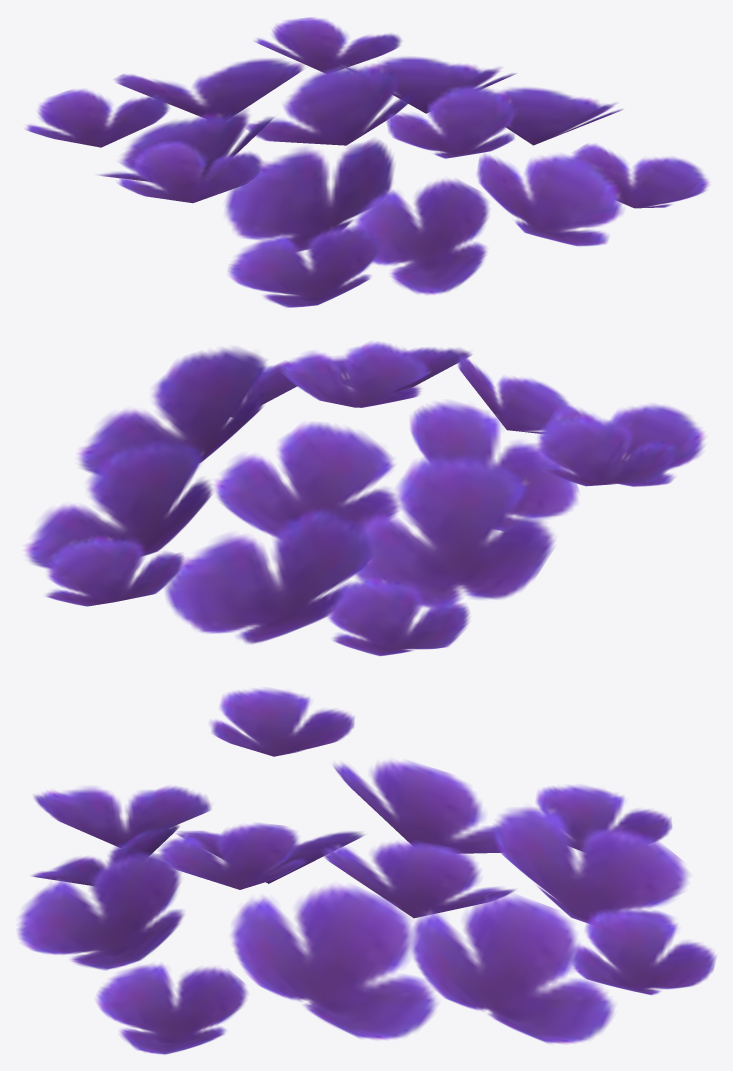
The model's file is PlantBig_2.glb.
3 renders of one model, top to bottom at view 1: azimuth 30°, elevation 25°; view 2: azimuth 150°, elevation 25°; view 3: azimuth 270°, elevation 25°, orthographic. The views are drawn at different scales.
Parts seen in each view (by area): view 1: Plant_7_Big; view 2: Plant_7_Big; view 3: Plant_7_Big.
Boxes of the visible parts, box(x1,y1,x2,y2) form: Plant_7_Big: box(25, 17, 709, 307); Plant_7_Big: box(24, 341, 705, 655); Plant_7_Big: box(17, 688, 716, 1054).
Size of the model in its own units: 1.31 by 0.2534 by 1.36.
1 material, 1 textured.
